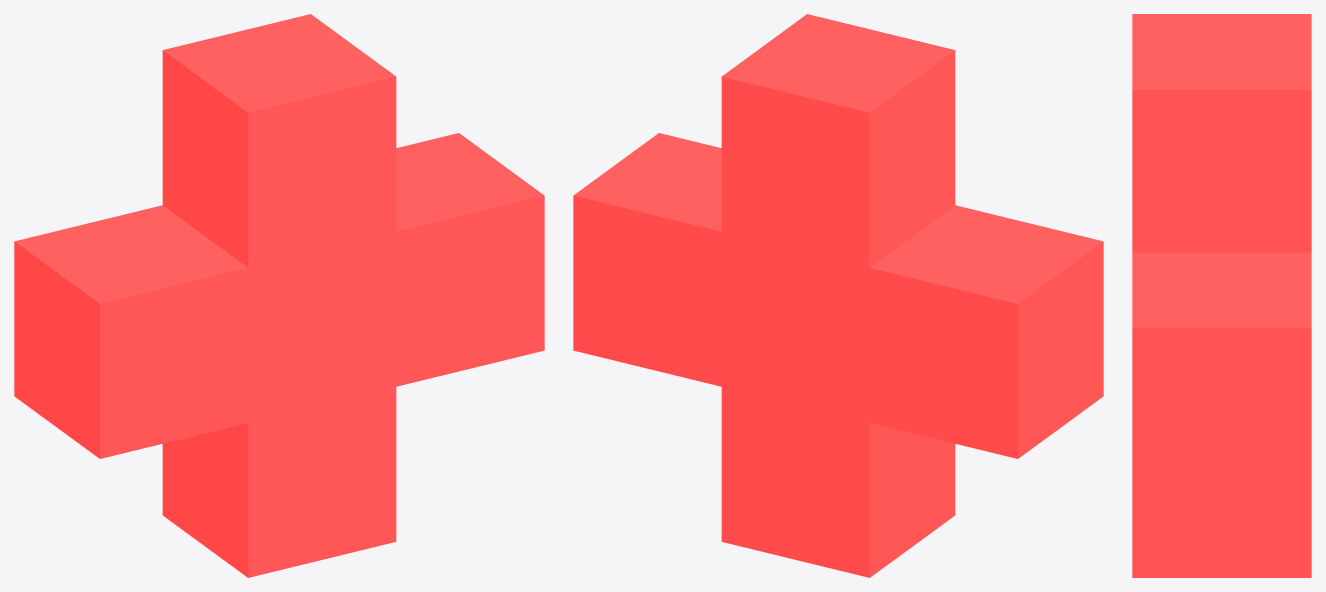
Rendered from P_HealthCross.fbx.
3 views of the same model, side by side, from view 1: azimuth 30°, elevation 25°; view 2: azimuth 150°, elevation 25°; view 3: azimuth 270°, elevation 25° (orthographic). The views are drawn at different scales.
Visible parts, largest first — view 1: P_HealthCross; view 2: P_HealthCross; view 3: P_HealthCross.
Boxes of the visible parts, x1=… form: P_HealthCross: x1=14, y1=14, x2=544, y2=577; P_HealthCross: x1=573, y1=14, x2=1103, y2=577; P_HealthCross: x1=1132, y1=14, x2=1311, y2=577.
Size of the model in its own units: 0.3 by 0.3 by 0.1.
